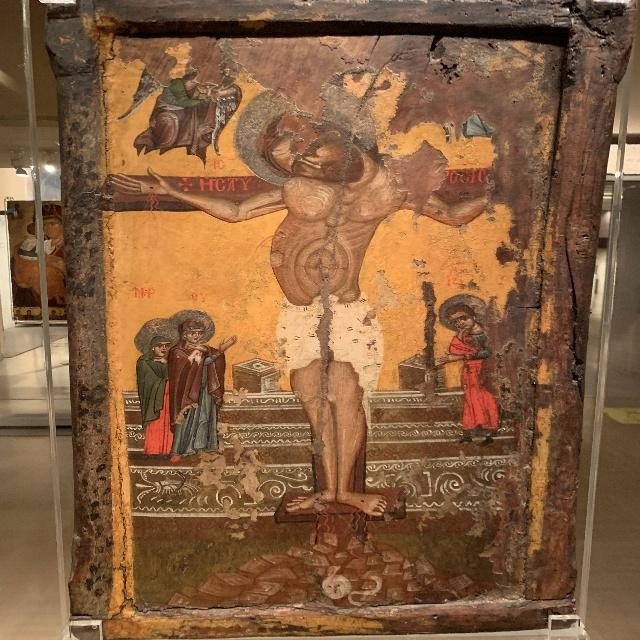angel: (117, 54, 240, 168)
blood: (251, 224, 408, 350)
blood_feet_crucifix: (283, 486, 410, 548)
christ_crucifix: (108, 85, 536, 540)
maria_magdalena: (125, 317, 183, 459)
mary: (167, 308, 243, 466)
saint: (433, 287, 508, 448)
